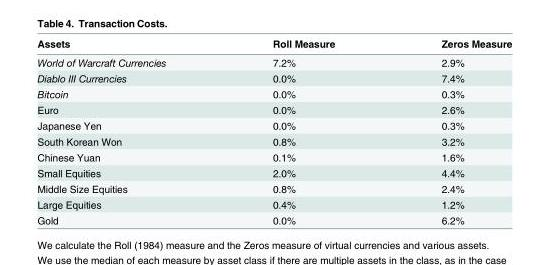table: (36, 37, 511, 225)
table column: (36, 37, 218, 225), (218, 37, 387, 225), (387, 37, 511, 225)
table column header: (36, 37, 511, 52)
table row: (36, 52, 511, 70), (36, 85, 511, 101), (36, 101, 511, 117), (36, 117, 511, 133), (36, 148, 511, 164), (36, 164, 511, 180), (36, 180, 511, 196), (36, 196, 511, 212), (36, 37, 511, 52), (36, 70, 511, 85), (36, 133, 511, 148), (36, 212, 511, 225)
